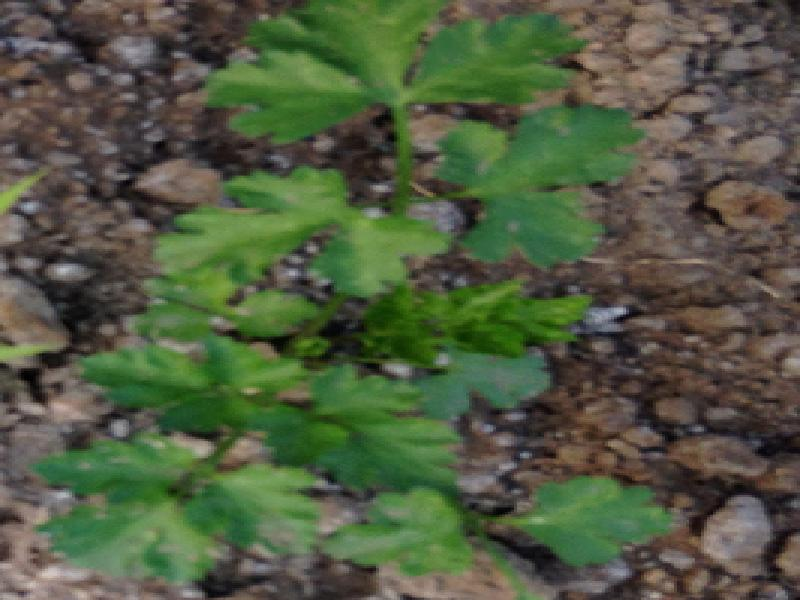radish: (128, 0, 779, 600)
